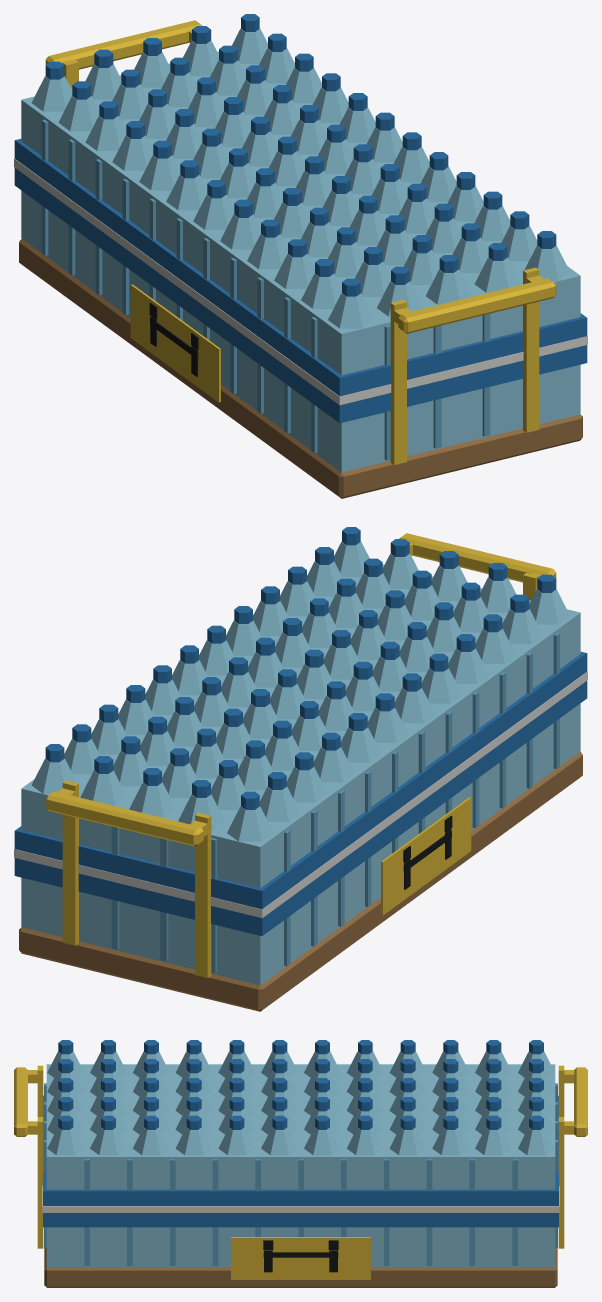
File: kien_nuoc.glb
3 views of the same model, one above another, from view 1: azimuth 30°, elevation 25°; view 2: azimuth 150°, elevation 25°; view 3: azimuth 270°, elevation 25° (orthographic). The views are drawn at different scales.
Visible parts, largest first — view 1: kien_nuoc; view 2: kien_nuoc; view 3: kien_nuoc.
Part boxes in pixels (x1,y1,x2,y2): kien_nuoc: (14,14,587,498); kien_nuoc: (14,527,587,1011); kien_nuoc: (14,1040,587,1287).
Size of the model in its own units: 0.501 by 0.381 by 1.23.
